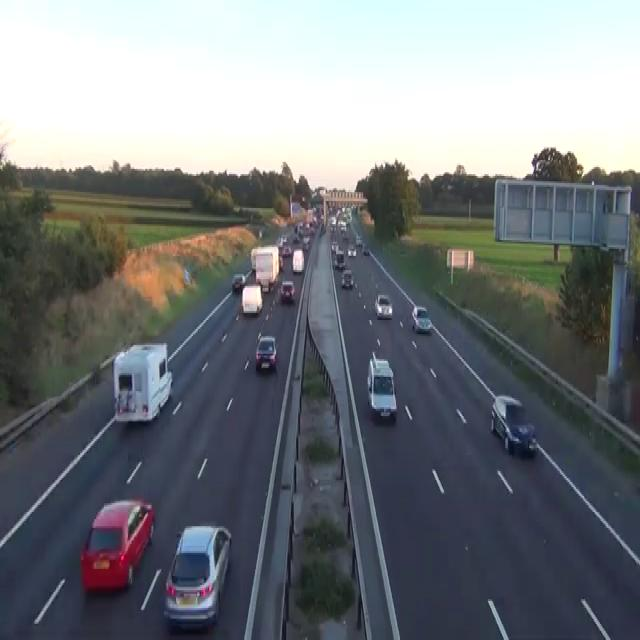Car: (79, 498, 155, 594), (163, 524, 231, 630), (490, 395, 537, 457), (255, 334, 277, 370), (411, 304, 431, 332), (374, 294, 392, 318), (280, 279, 295, 302), (340, 268, 354, 288), (231, 274, 246, 292), (333, 249, 345, 268), (244, 268, 254, 282), (183, 266, 190, 284), (282, 244, 292, 256), (302, 235, 310, 249), (347, 244, 356, 256), (278, 252, 283, 272), (331, 240, 338, 252), (340, 222, 346, 235), (319, 222, 325, 235), (355, 235, 362, 245), (330, 215, 336, 226), (293, 234, 300, 243), (281, 234, 287, 243), (276, 237, 282, 246), (363, 246, 369, 254), (329, 224, 334, 233), (258, 230, 262, 238)
Truck: (112, 341, 172, 423), (366, 351, 397, 422), (250, 246, 279, 292), (241, 282, 262, 314), (292, 249, 304, 274)
